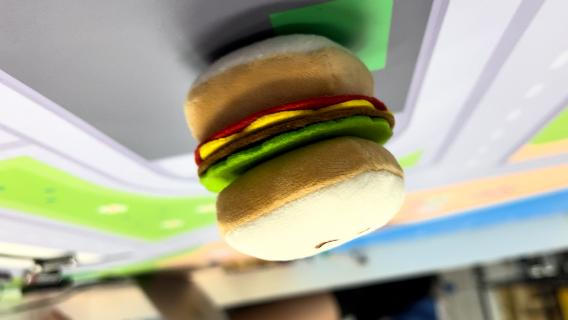sandwich: (182, 32, 408, 262)
